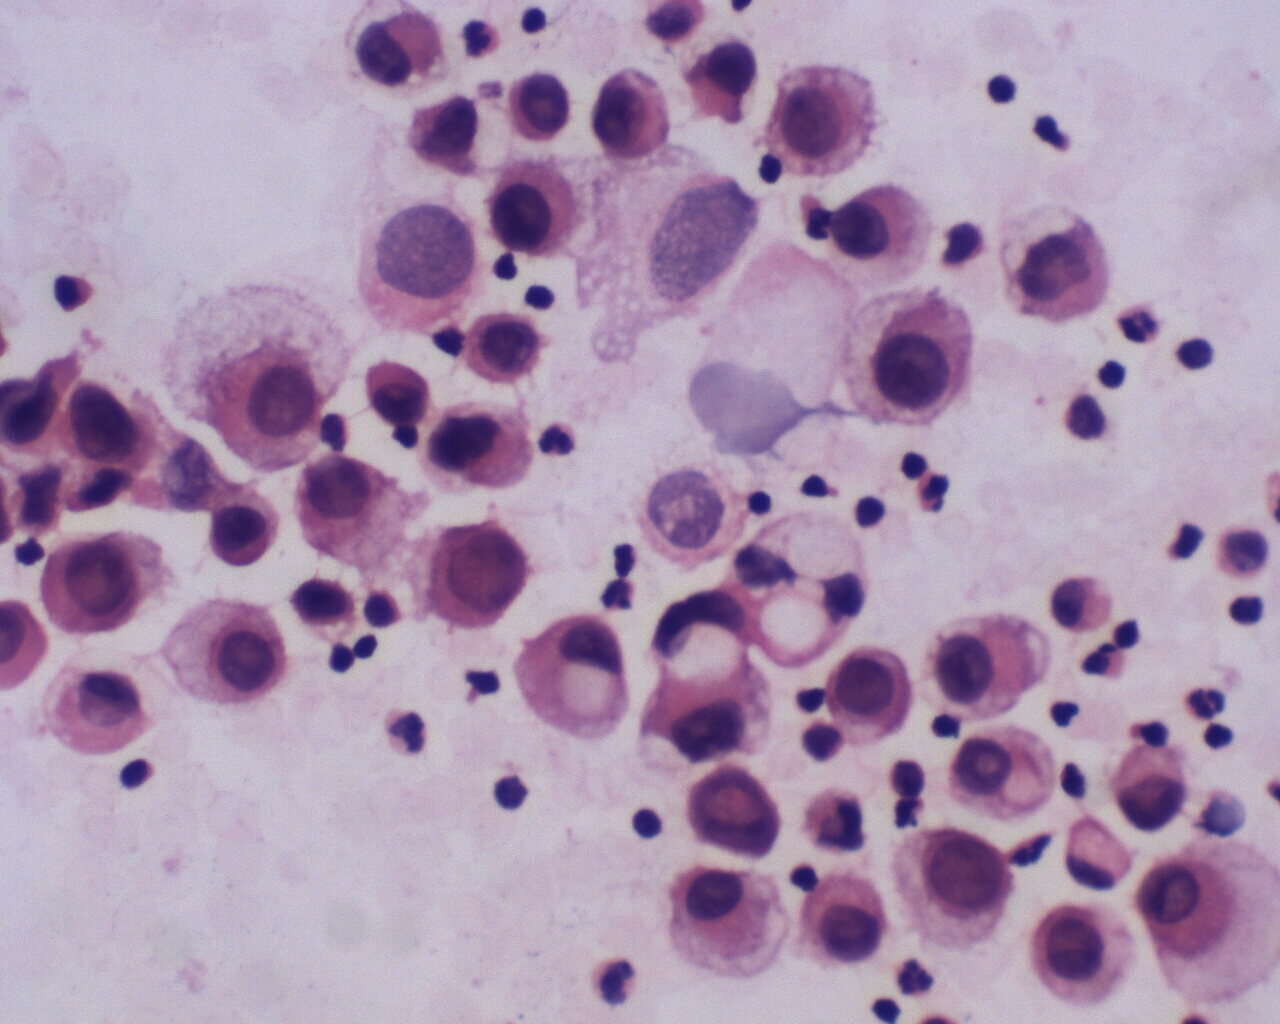ab: (853, 290, 983, 434), (204, 336, 327, 478), (899, 825, 1019, 954), (424, 512, 534, 638), (1031, 897, 1145, 1013), (39, 537, 152, 639), (675, 761, 790, 859), (57, 371, 162, 472), (820, 639, 916, 744), (587, 63, 679, 163), (1104, 739, 1193, 833), (674, 36, 764, 127), (461, 303, 553, 386), (204, 493, 284, 571), (363, 353, 434, 429), (503, 73, 575, 145)
histo: (1058, 807, 1140, 892)
lymph: (490, 761, 538, 816), (978, 67, 1026, 110), (622, 804, 666, 844)
meso: (487, 161, 589, 261)
neutro: (1109, 290, 1162, 353), (589, 950, 641, 1009), (1184, 678, 1241, 726), (453, 14, 505, 66), (535, 412, 583, 458), (594, 576, 638, 619)
